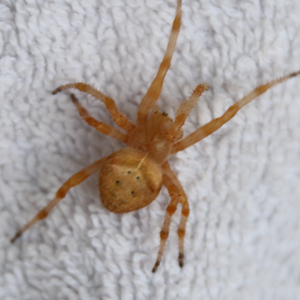spider: (1, 1, 299, 300)
